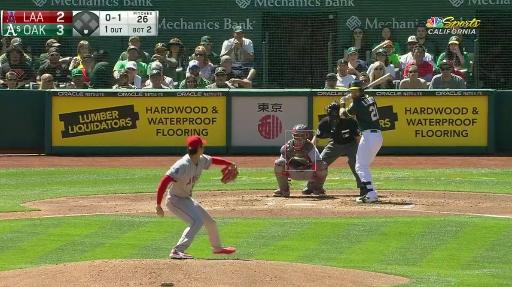pitcher: (154, 136, 243, 260)
